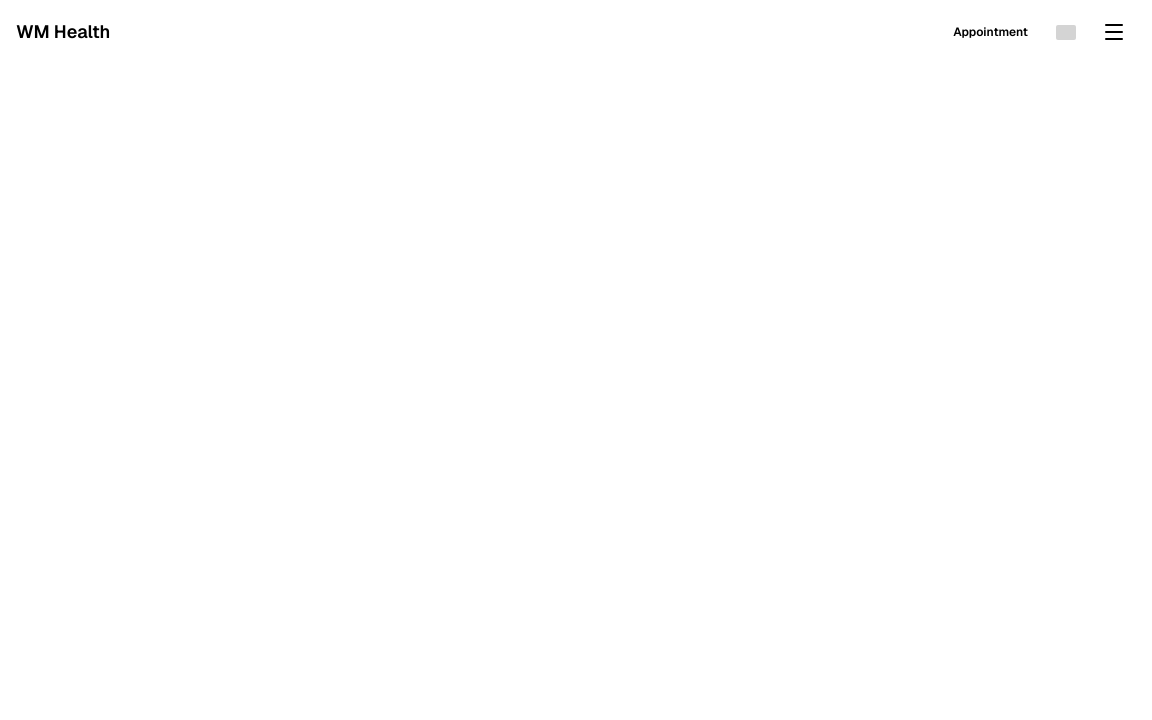
it: SiteHeader — mobil menü (lg altı) › açık panel erişilebilirlik ihlali içermez
The width and height of the screenshot is (1152, 720).
Click the button named "Open menu" at (1114, 32), box [1092, 10, 1136, 54]
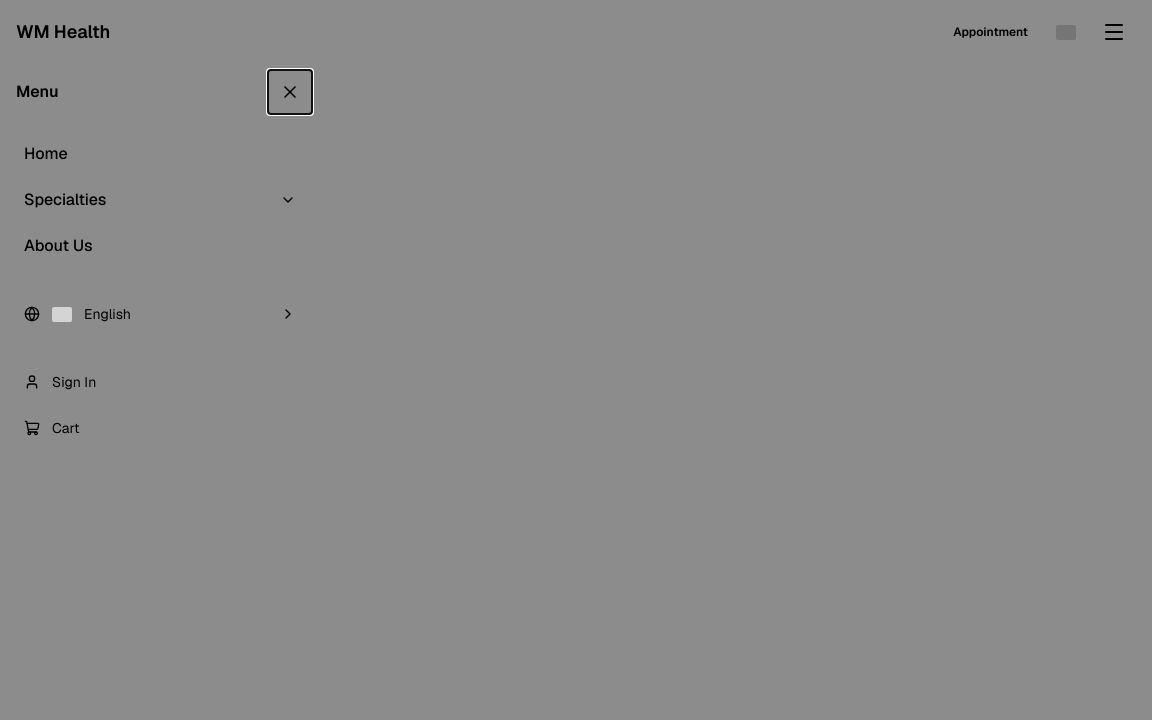
Expected: the dialog "Menu" is shown, [0, 64, 320, 462]
